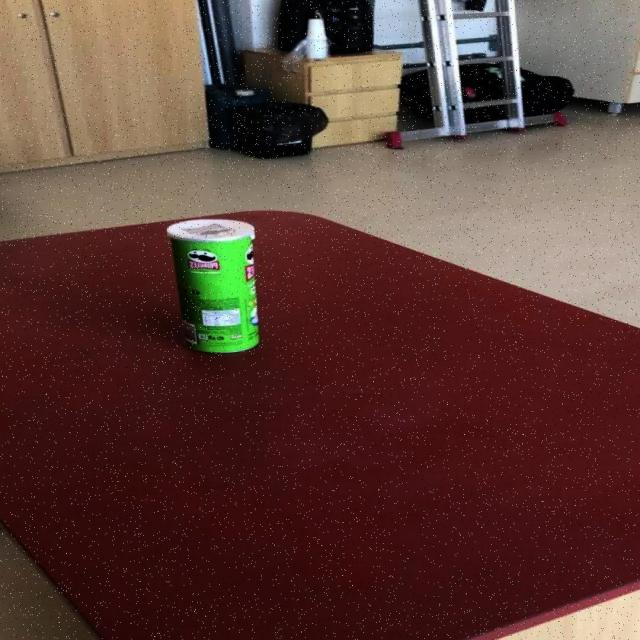Pringles: (167, 217, 263, 354)
